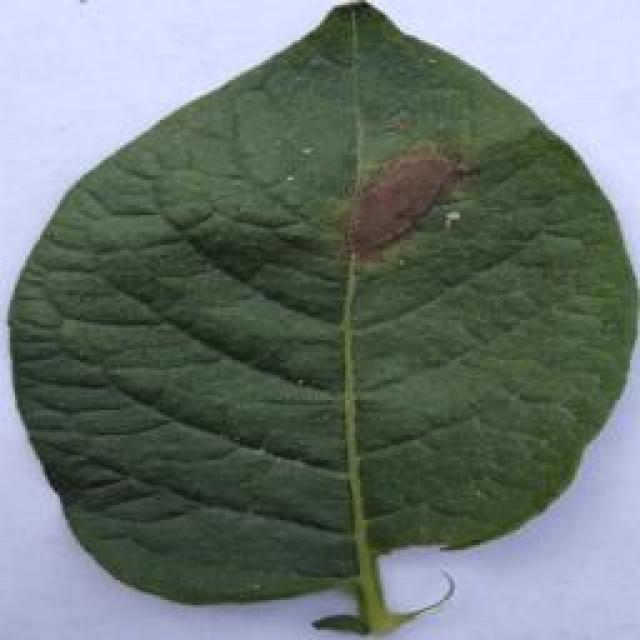Potato_Late_Blight: (4, 4, 636, 628)
